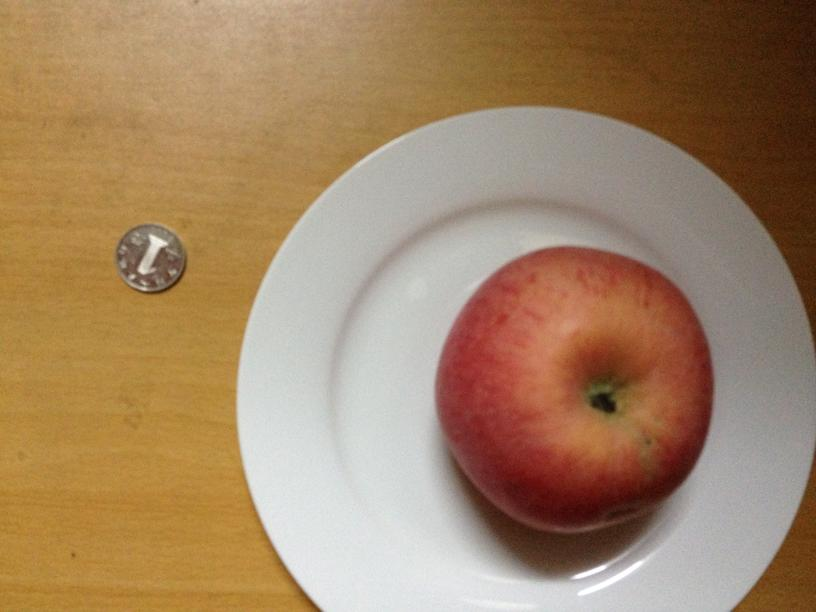apple: (440, 246, 714, 534)
coin: (116, 221, 186, 294)
